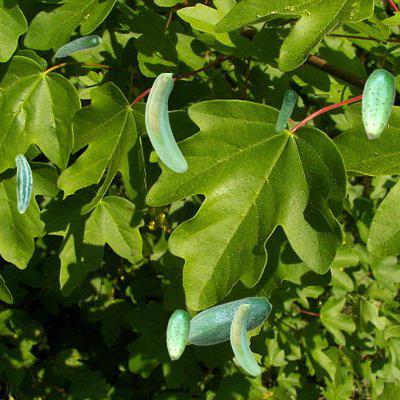cucumber: (145, 73, 186, 171), (188, 296, 271, 344), (361, 68, 394, 138), (230, 304, 259, 374), (166, 309, 189, 359), (54, 35, 100, 56), (15, 154, 31, 212), (275, 90, 295, 132)
